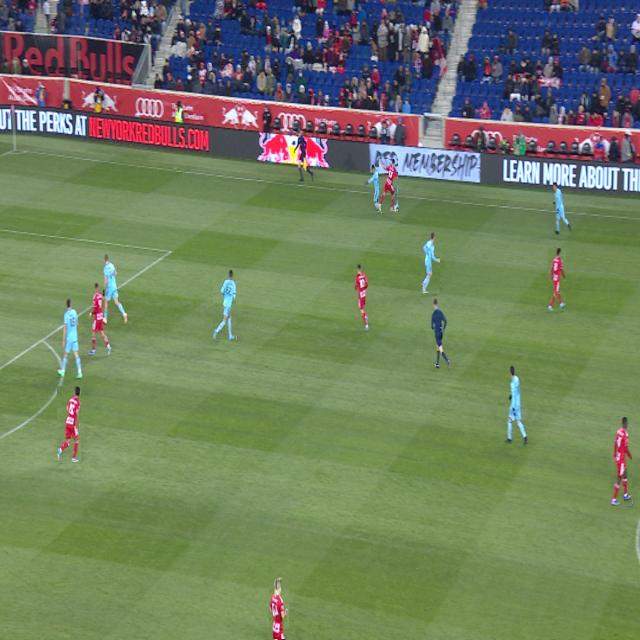player: (58, 298, 83, 378), (504, 365, 529, 444), (57, 386, 81, 462), (612, 417, 632, 506), (88, 282, 112, 356), (103, 254, 128, 325), (214, 270, 236, 341), (270, 579, 289, 640), (548, 248, 566, 311), (422, 233, 440, 294), (354, 264, 369, 331), (552, 182, 571, 234), (379, 160, 398, 212), (365, 165, 383, 215)
referee: (431, 298, 450, 369)
